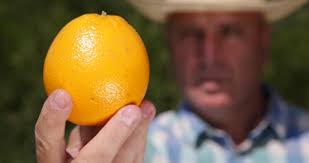orange: (37, 9, 155, 127)
